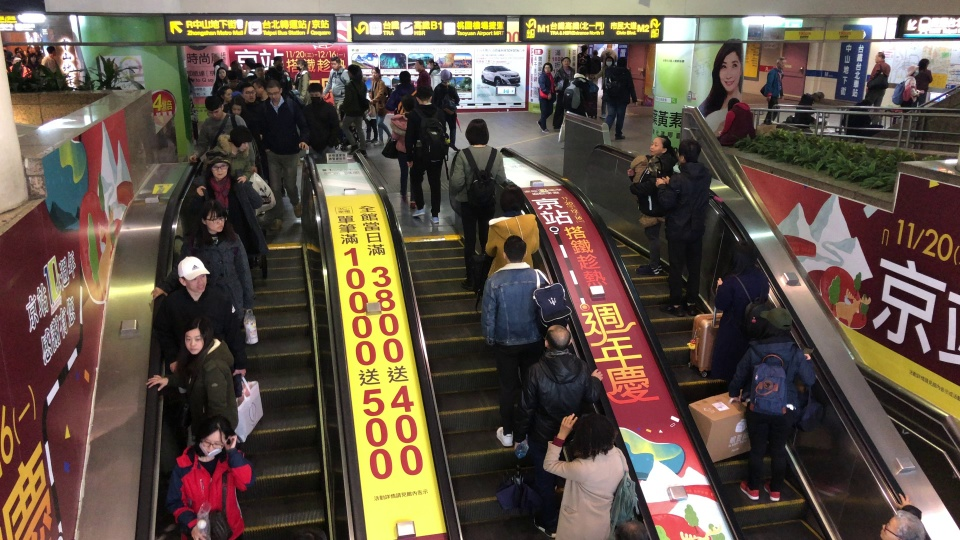person_head: (574, 412, 617, 460), (876, 506, 927, 540), (194, 415, 232, 459), (176, 255, 211, 294), (182, 316, 216, 355), (727, 240, 761, 274), (200, 199, 228, 232), (759, 307, 792, 334), (543, 324, 572, 353), (204, 149, 231, 180), (464, 117, 490, 146), (499, 183, 524, 213), (502, 235, 528, 262), (615, 520, 648, 540), (229, 125, 253, 152), (676, 138, 702, 162), (204, 95, 224, 121), (649, 135, 671, 157), (265, 79, 283, 102), (237, 82, 256, 103), (307, 82, 324, 104), (415, 85, 433, 105), (400, 94, 418, 113), (229, 95, 245, 116), (216, 86, 233, 102), (346, 64, 362, 80), (272, 55, 285, 71), (398, 70, 411, 85), (295, 58, 308, 72), (576, 65, 589, 79), (254, 63, 265, 79), (811, 90, 824, 103), (215, 66, 227, 79), (9, 54, 22, 66), (906, 64, 919, 76), (413, 59, 425, 71), (541, 61, 553, 73), (616, 56, 628, 68), (370, 66, 381, 79), (46, 45, 57, 57), (775, 58, 787, 69), (874, 51, 885, 63), (917, 58, 930, 68), (330, 60, 341, 71), (604, 56, 615, 67), (27, 51, 37, 63), (561, 57, 571, 66), (580, 45, 589, 52), (591, 50, 599, 55), (606, 44, 613, 48)
person_vbox: (494, 323, 604, 539), (480, 234, 573, 452), (727, 306, 816, 502), (150, 198, 257, 322), (541, 410, 639, 540), (159, 255, 247, 399), (145, 315, 239, 447), (164, 413, 256, 540), (450, 117, 506, 291), (655, 138, 711, 308), (705, 240, 770, 381), (189, 149, 268, 257), (257, 79, 311, 230), (625, 135, 678, 276), (403, 86, 450, 224), (188, 95, 258, 173), (485, 184, 540, 278), (300, 82, 340, 211), (389, 93, 418, 209), (199, 125, 253, 184), (604, 56, 638, 139), (226, 95, 267, 162), (339, 64, 368, 157), (557, 65, 590, 144), (234, 81, 268, 151), (321, 53, 350, 122), (551, 56, 575, 131), (760, 57, 786, 125), (590, 55, 617, 119), (371, 66, 392, 147), (842, 98, 883, 138), (862, 51, 890, 106), (891, 64, 925, 108), (536, 62, 556, 134), (792, 90, 828, 129), (385, 70, 415, 115), (263, 55, 287, 94), (293, 58, 312, 105), (916, 58, 934, 107), (431, 69, 452, 108), (363, 89, 377, 144), (210, 66, 232, 95), (414, 56, 431, 91), (6, 55, 31, 77), (428, 55, 442, 91), (40, 46, 58, 74), (600, 43, 617, 66), (590, 49, 601, 83), (24, 52, 41, 74), (577, 45, 590, 68)
